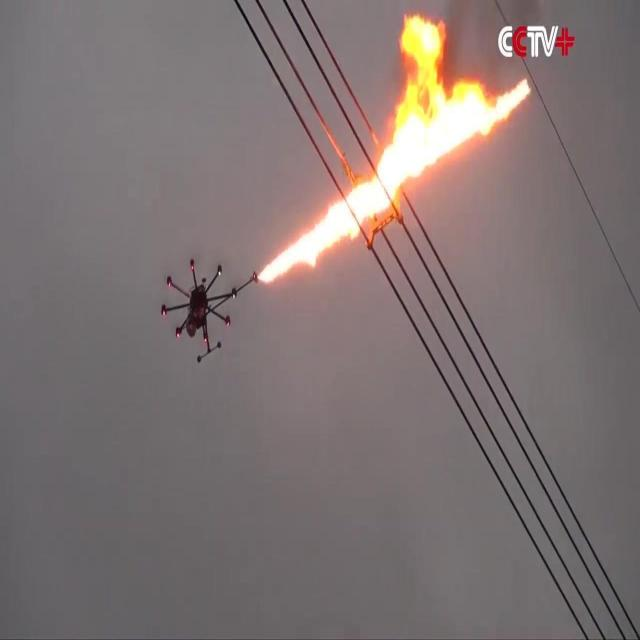drone: (159, 257, 237, 365)
